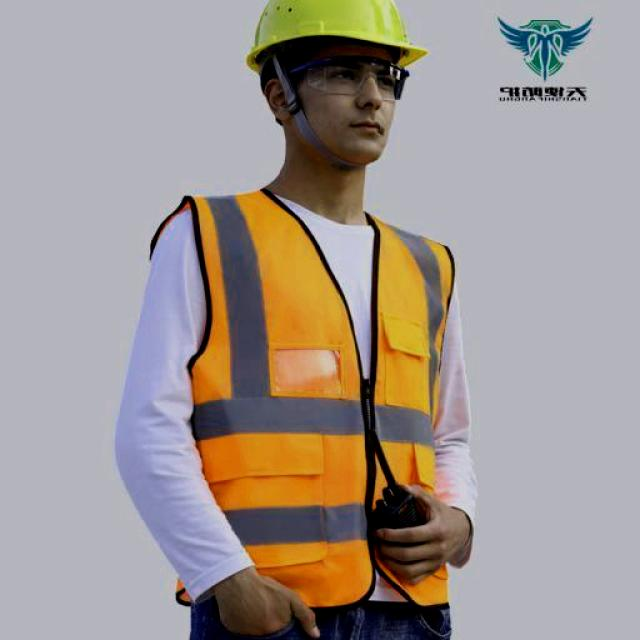face_nomask: (314, 62, 400, 143)
glasses: (300, 50, 405, 102)
hand_noglove: (370, 476, 462, 579)
head_helmet: (240, 0, 435, 62)
person: (108, 0, 484, 638)
vest: (145, 188, 463, 614)
